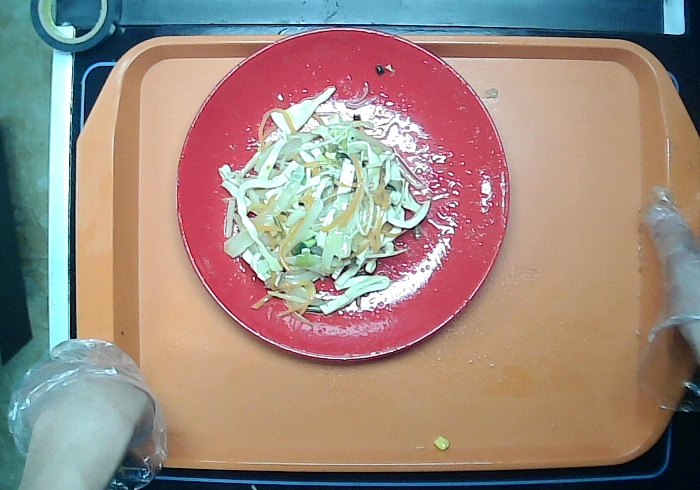HZYJPL-Hong_Se_Yuan_Pan: (170, 15, 522, 373)
